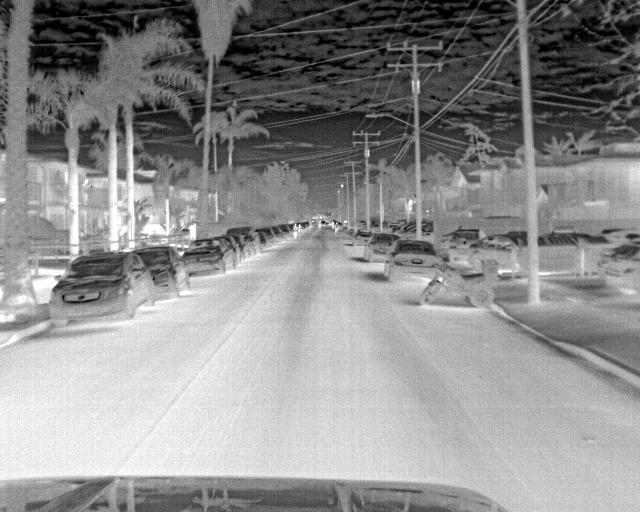bicycle: (419, 256, 497, 307)
car: (46, 251, 158, 327), (138, 246, 190, 297), (382, 242, 438, 282), (468, 236, 527, 271), (176, 240, 234, 275), (603, 243, 639, 295), (448, 227, 483, 263), (362, 233, 400, 264), (227, 226, 260, 254), (348, 230, 369, 256), (259, 226, 275, 244), (255, 230, 269, 248), (269, 226, 283, 242), (277, 225, 291, 241)
